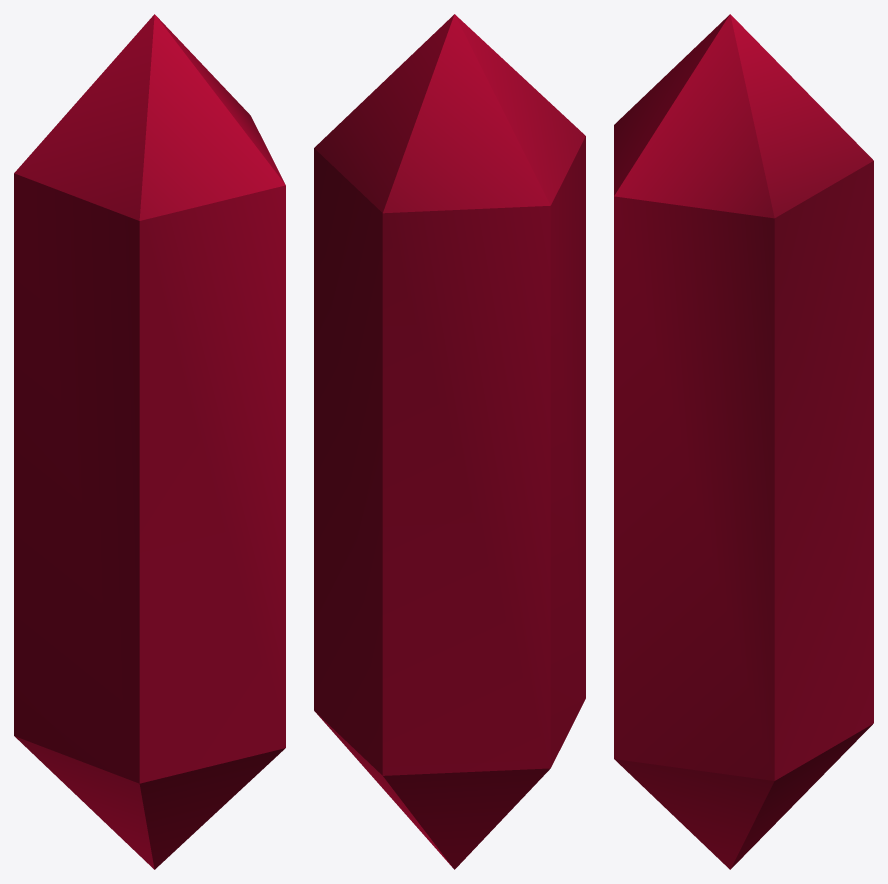
The model's file is gem.dae.
3 renders of one model, left to right at view 1: azimuth 30°, elevation 25°; view 2: azimuth 150°, elevation 25°; view 3: azimuth 270°, elevation 25°, orthographic.
Visible parts, largest first — view 1: gem; view 2: gem; view 3: gem.
Boxes of the visible parts, <box> form: gem: <box>14,14,285,869</box>; gem: <box>314,14,585,869</box>; gem: <box>614,14,873,869</box>.
Bounding box in the file's own units: 5.07 × 4.82 × 17.51.
